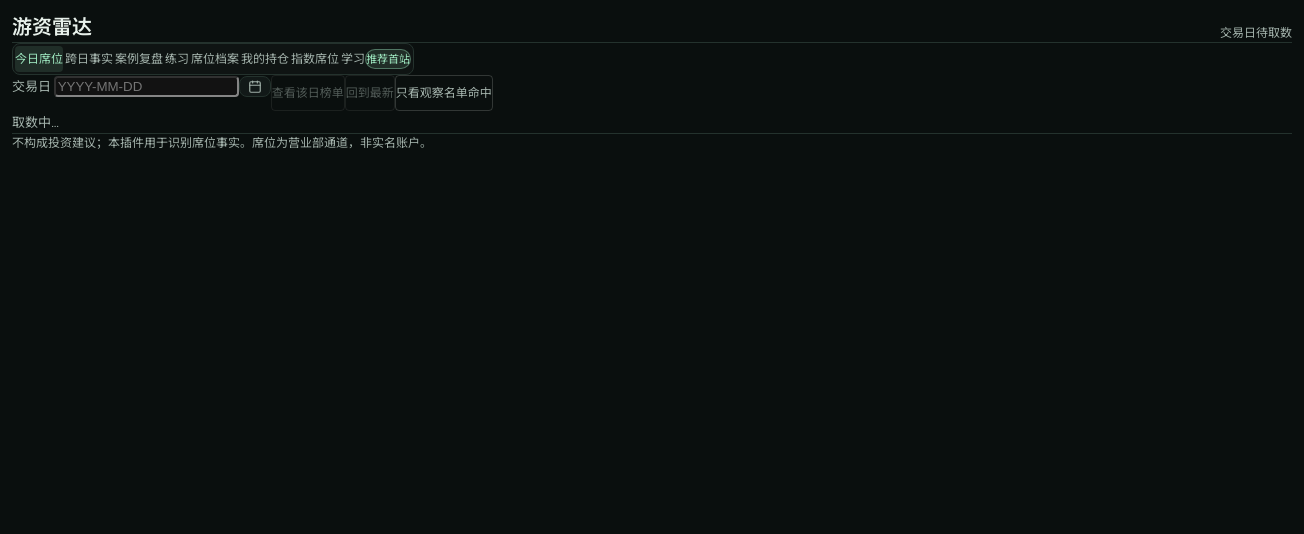
YouziPage · G03 案例复盘回链 › ★ 案例复盘的「来源定位」里有可点原始披露页
Click the button titled "按证券代码与日期区间查看披露事件时间线" at (139, 59), box x1=115 y1=46 x2=163 y2=72
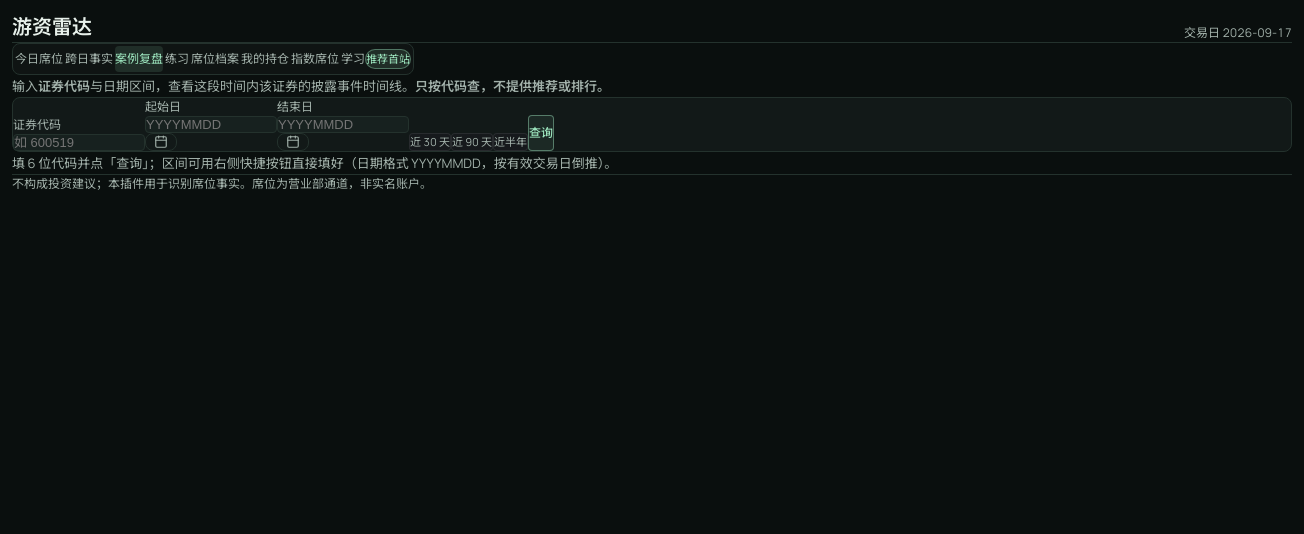
Result: the field with placeholder "如 600519" is shown
Type "600519" into the field with placeholder "如 600519" at (79, 143), box x1=13 y1=134 x2=145 y2=151
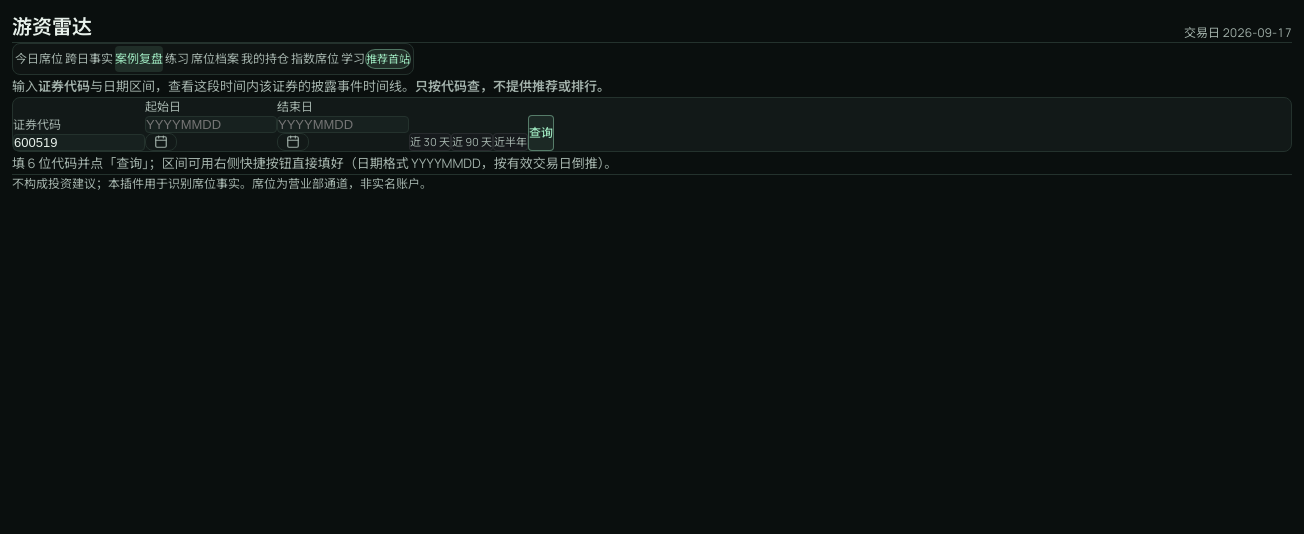
Type "20260907" into the field with placeholder "YYYYMMDD" at (211, 125), box x1=145 y1=116 x2=277 y2=133
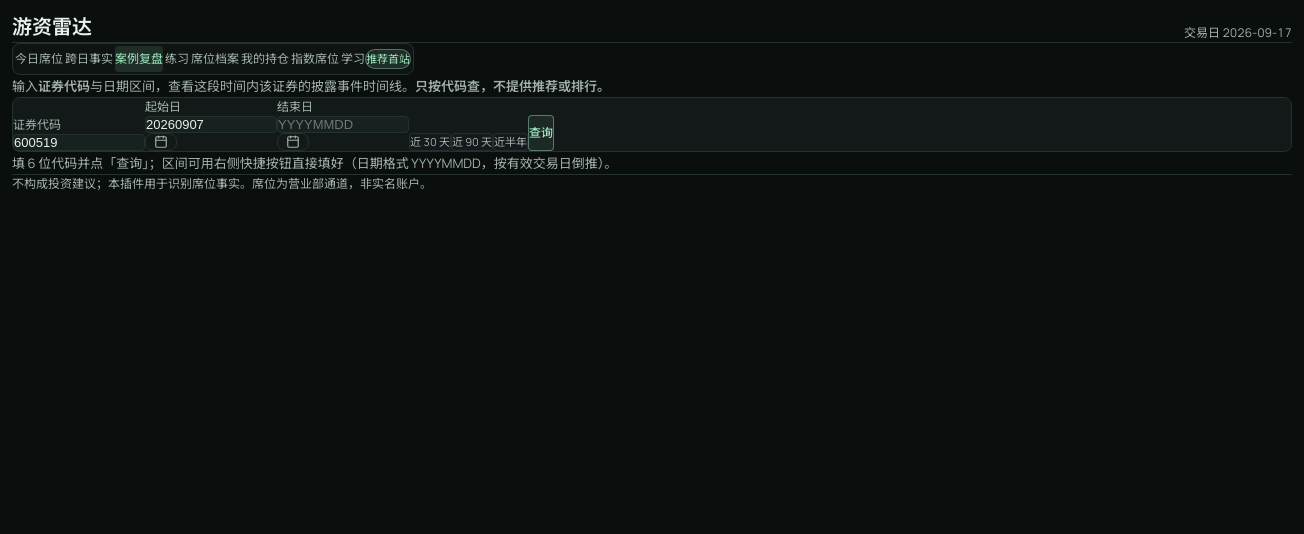
Type "20260917" into the field with placeholder "YYYYMMDD" at (343, 125), box x1=277 y1=116 x2=409 y2=133
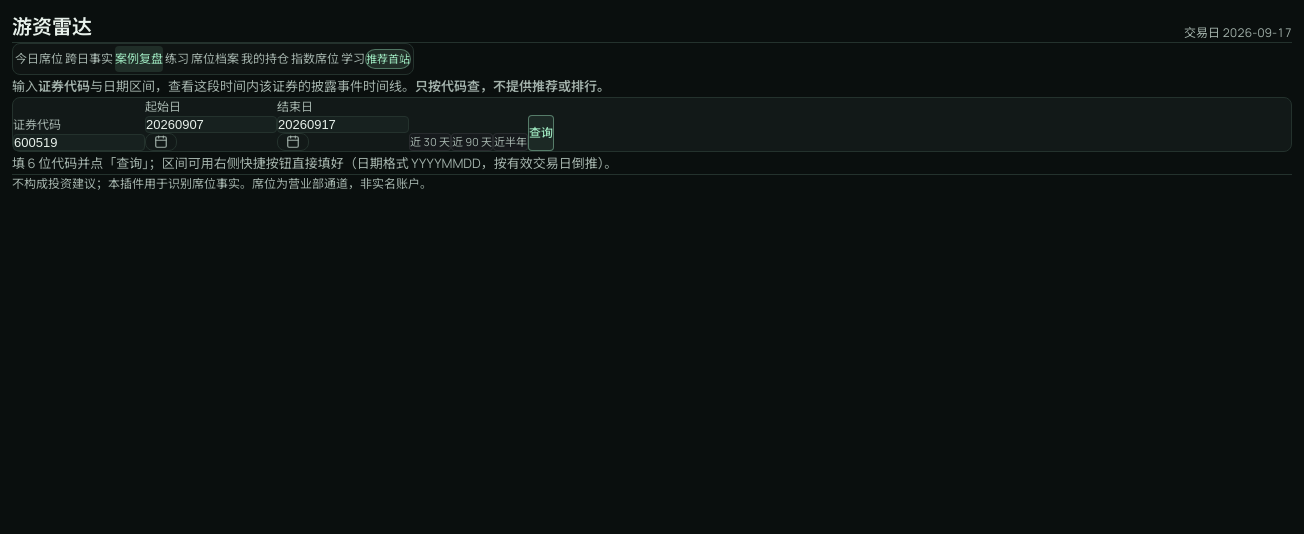
Click the button "查询" at (541, 133), box x1=528 y1=115 x2=554 y2=151
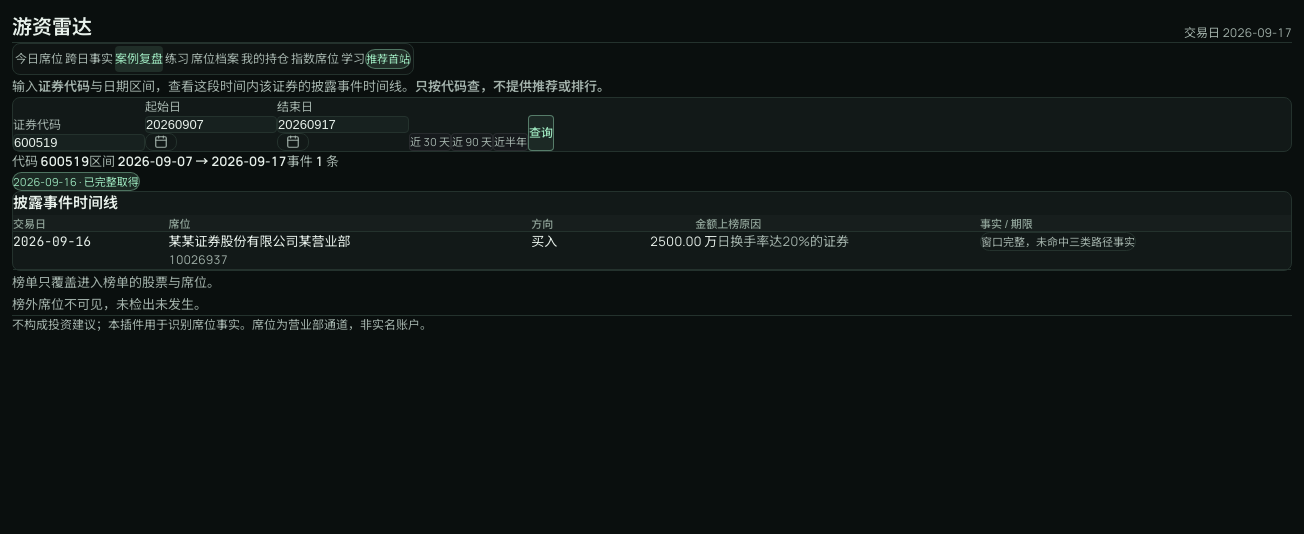
Expected: the text "来源定位" is not shown
Click the text "日换手率达20%的证券" at (849, 250), box x1=717 y1=231 x2=980 y2=270
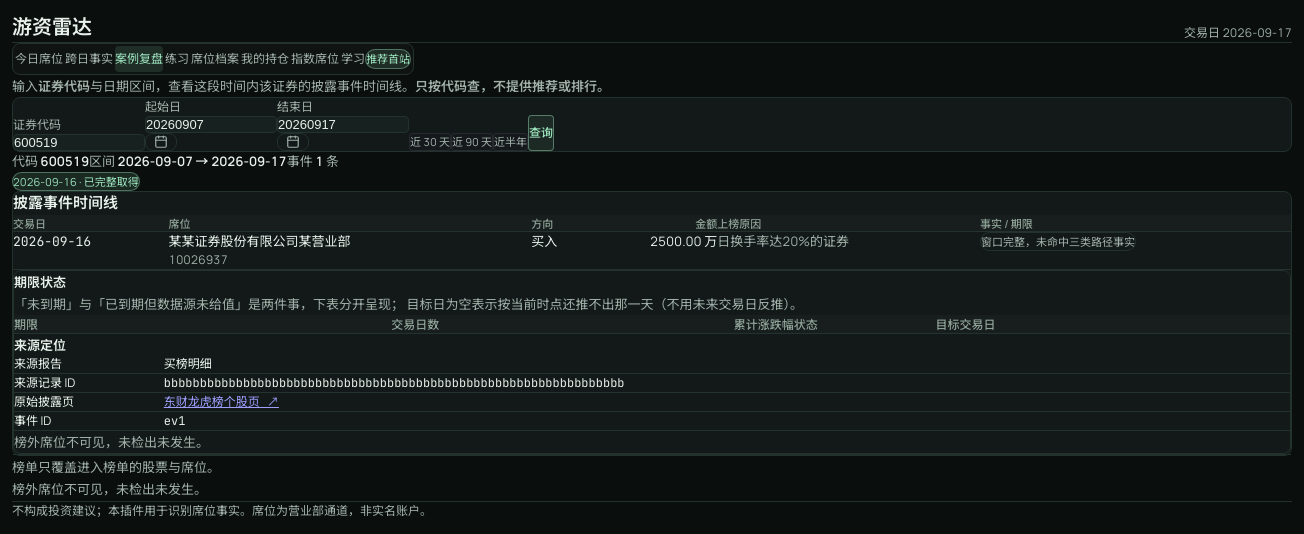
Result: the heading "来源定位" is shown at x1=14 y1=336 x2=66 y2=354
